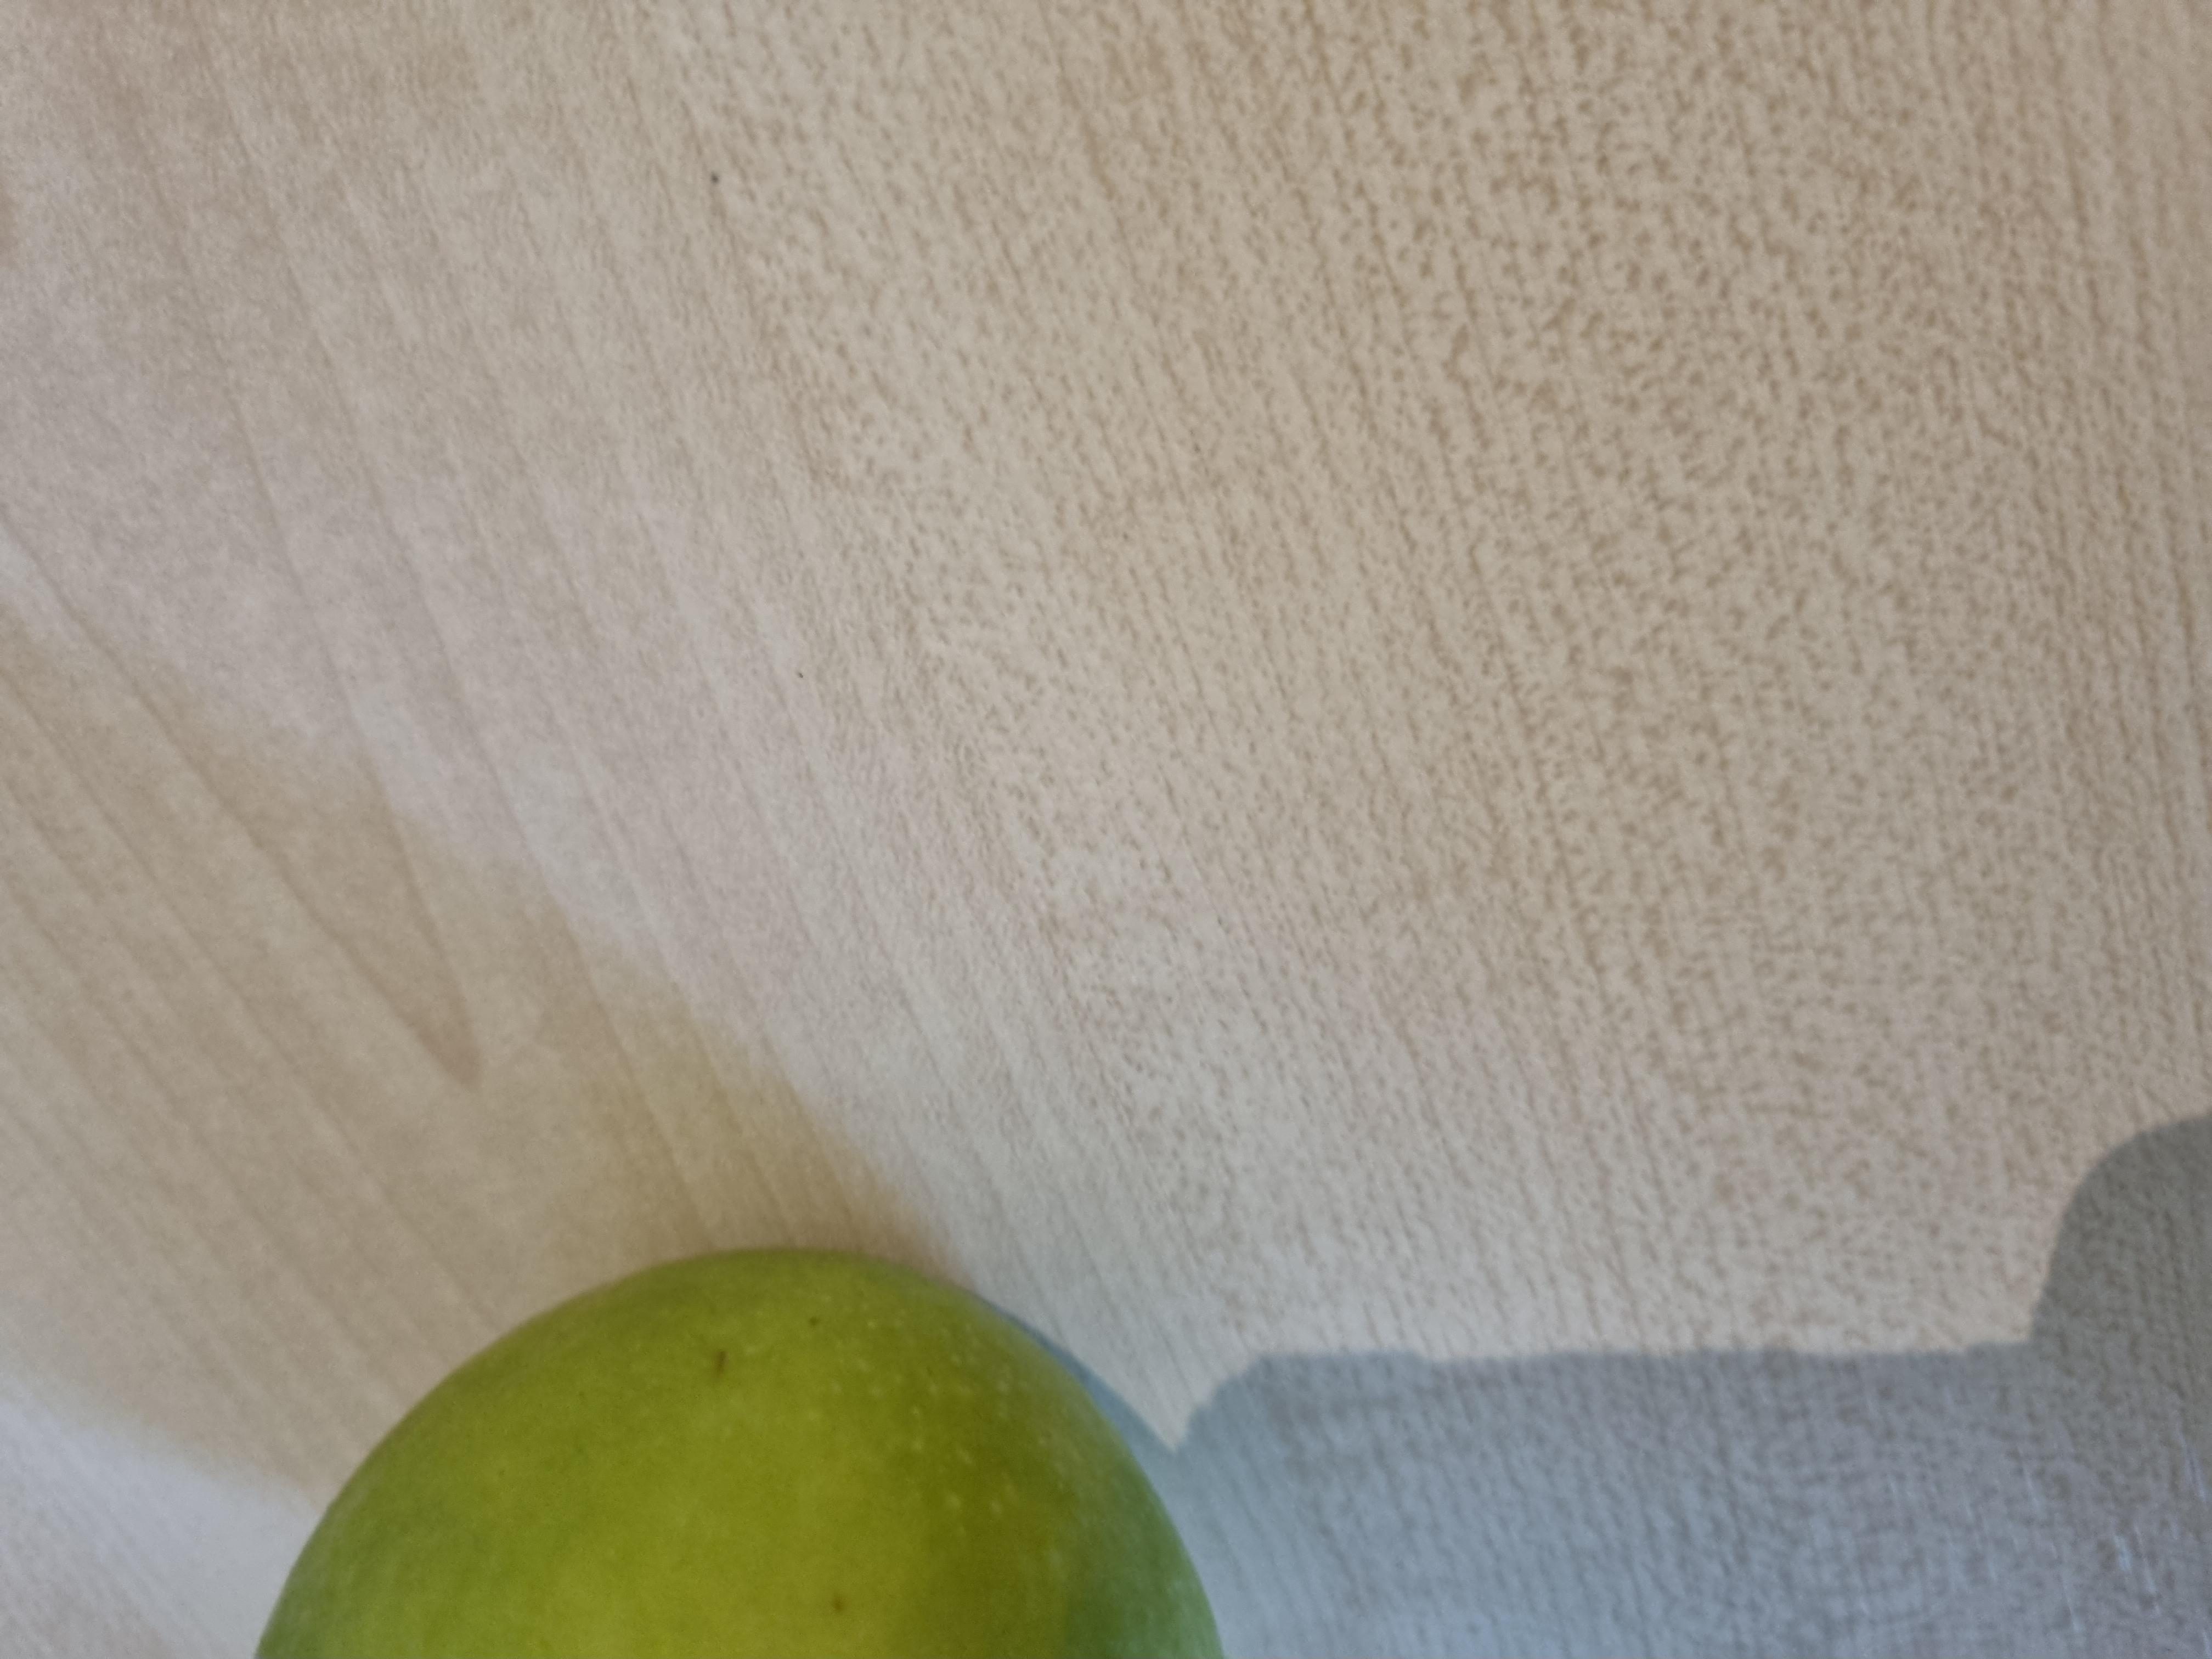Apple: (0, 146, 624, 951)
